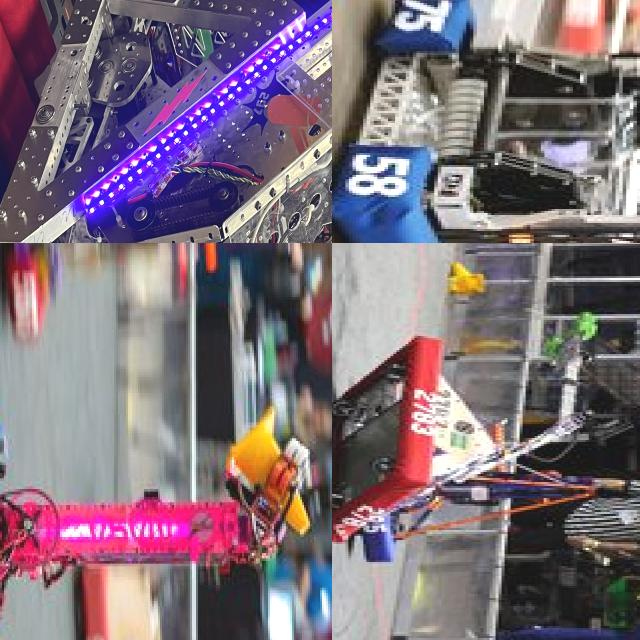FRC-Robots: (0, 291, 332, 640), (332, 297, 640, 584), (0, 0, 332, 243), (332, 0, 640, 243), (344, 412, 610, 620), (0, 243, 311, 359), (82, 520, 222, 640)
